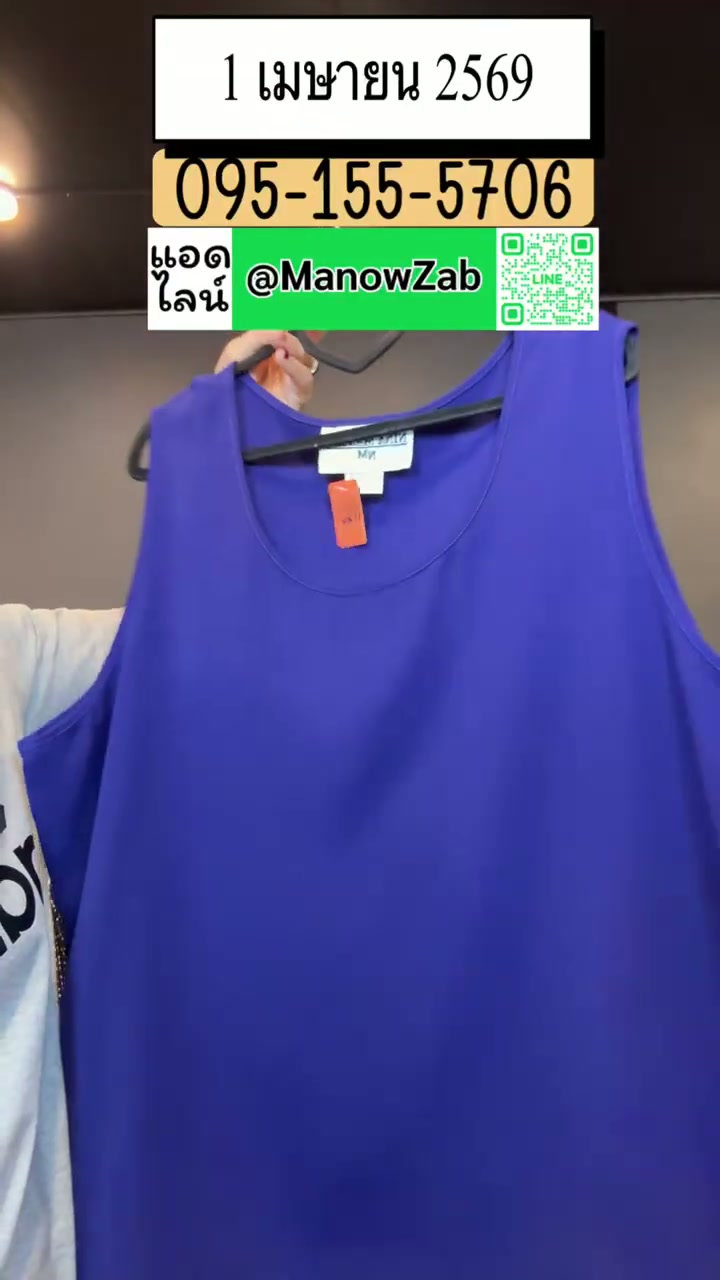display_shirt: (22, 314, 719, 1279)
